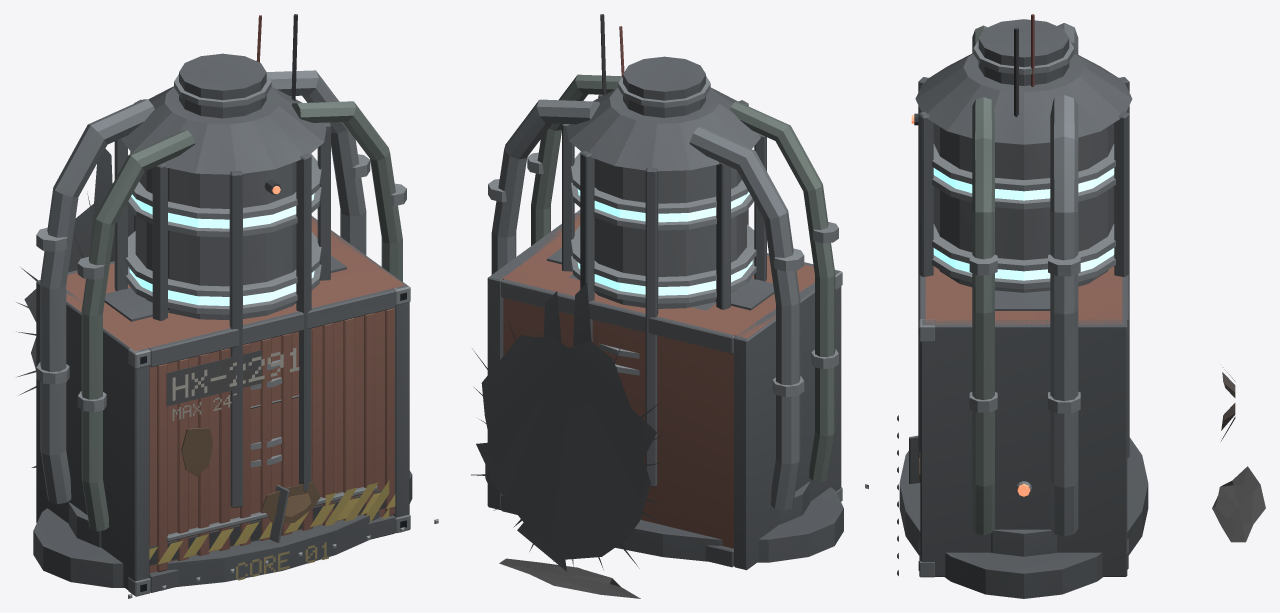
The model's file is props.glb.
3 renders of one model, left to right at view 1: azimuth 30°, elevation 25°; view 2: azimuth 150°, elevation 25°; view 3: azimuth 270°, elevation 25°, orthographic. The views are drawn at different scales.
Visible parts, largest first — view 1: reactor, bigcrate, scorch, shelf, table, beam, console_broken; view 2: reactor, bigcrate, scorch, shelf, beam; view 3: reactor, bigcrate, scorch, shelf, beam, console_broken.
Boxes of the visible parts, <box> form: reactor: <box>33,53,438,598</box>; bigcrate: <box>36,216,410,596</box>; scorch: <box>16,149,133,467</box>; shelf: <box>104,255,346,321</box>; table: <box>166,485,377,541</box>; beam: <box>256,14,297,100</box>; console_broken: <box>269,485,289,542</box>; reactor: <box>485,56,868,562</box>; bigcrate: <box>487,210,842,570</box>; scorch: <box>471,283,665,598</box>; shelf: <box>547,248,774,310</box>; beam: <box>600,14,624,95</box>; reactor: <box>897,19,1148,598</box>; bigcrate: <box>918,266,1128,577</box>; scorch: <box>1212,367,1265,542</box>; shelf: <box>995,290,1050,310</box>; beam: <box>1014,14,1034,117</box>; console_broken: <box>909,435,920,483</box>.
Bounding box in the file's own units: 3.4 × 4.51 × 2.92.
